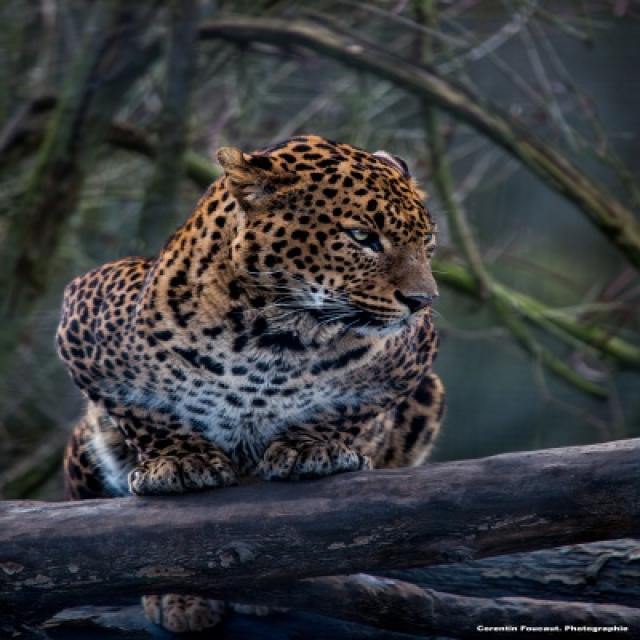Jaguar: (54, 134, 446, 502)
